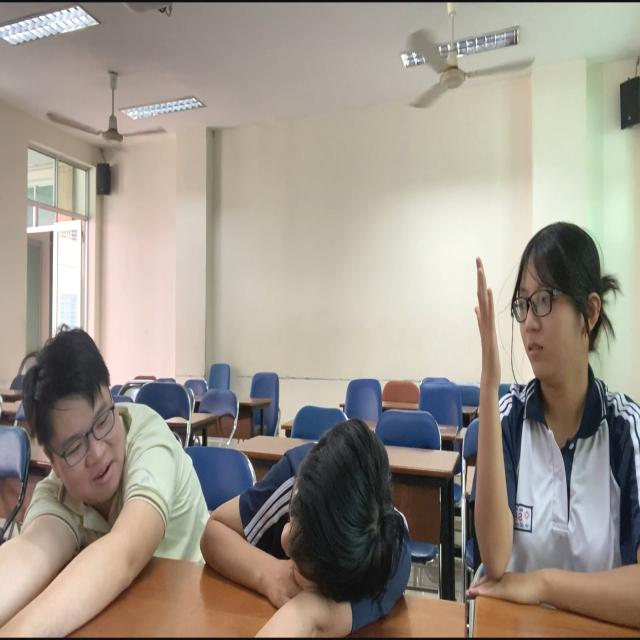raise_hand: (455, 204, 640, 640)
sleep: (202, 386, 428, 640)
